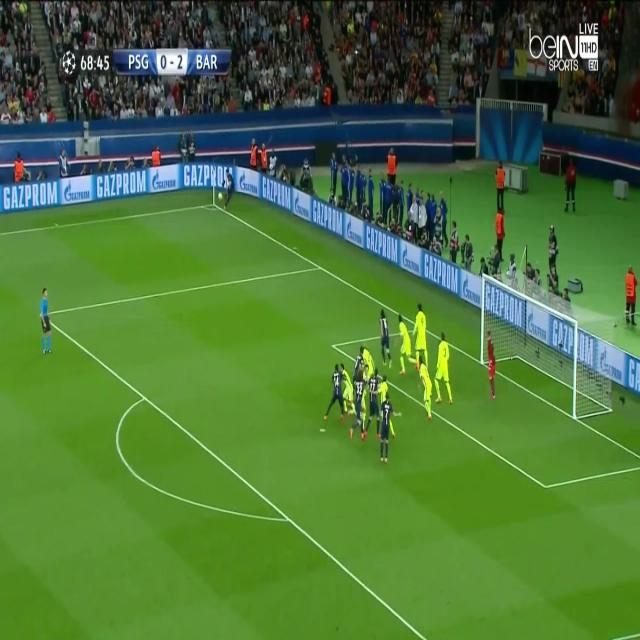Ball: (216, 189, 224, 205)
Goalkeeper: (486, 326, 498, 406)
Player: (434, 330, 456, 410), (379, 390, 401, 466), (362, 368, 382, 447), (320, 364, 346, 422), (396, 312, 416, 378), (348, 370, 366, 440), (416, 356, 434, 421), (414, 303, 429, 373), (378, 303, 394, 368), (340, 365, 356, 423), (222, 167, 240, 210)
Referee: (38, 286, 54, 360)
